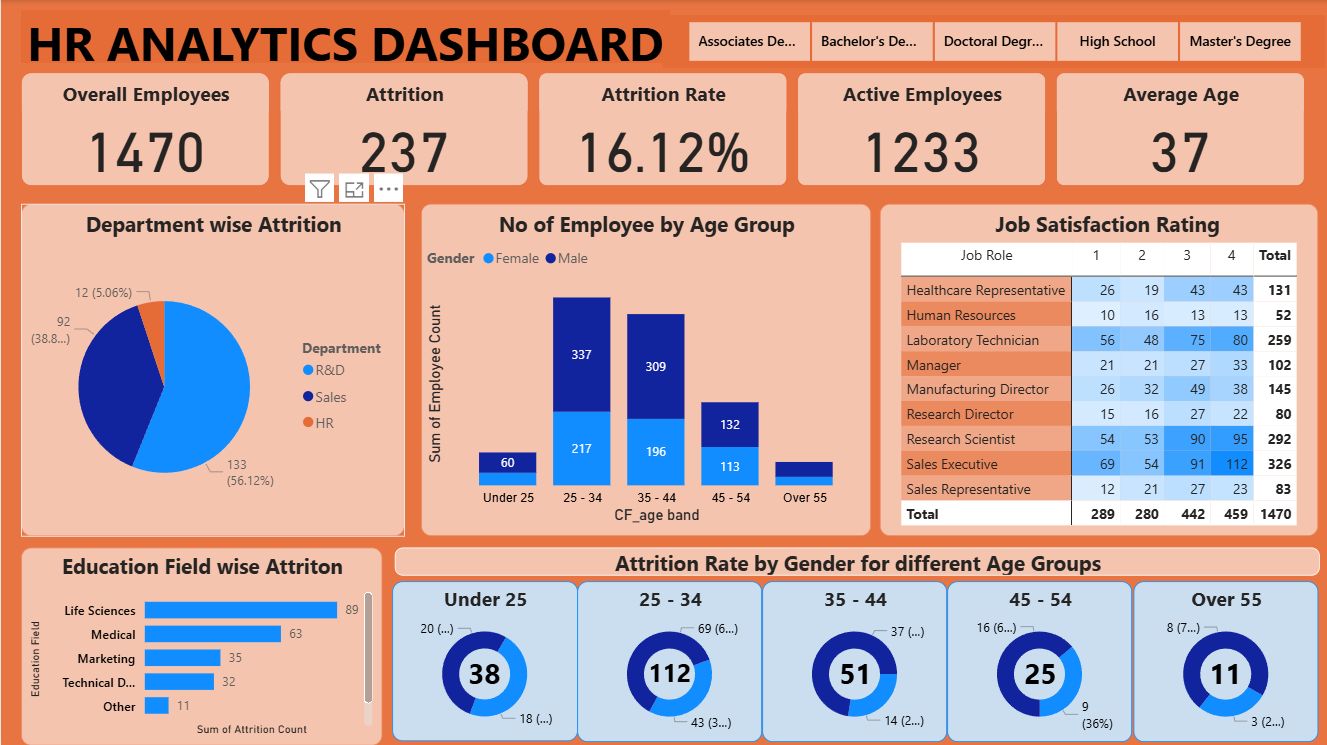

This screenshot's page, from the dashboard's own definition file:
{"tool":"powerbi","page":{"name":"Page 1","canvas":[1280,720],"ordinal":0},"visuals":[{"type":"card","title":"Overall Employees","fields":{"Values":["Sum(HR data.Employee Count)"]},"box":[19.3,70,240.1,109.8],"z":0},{"type":"card","title":"Attrition","fields":{"Values":["Sum(HR data.Attrition Count)"]},"box":[269,70,240.1,109.8],"z":1000},{"type":"card","title":"Attrition Rate","fields":{"Values":["HR data.Attrition Rate"]},"box":[518.8,70,240.1,109.8],"z":2000},{"type":"card","title":"Active Employees","fields":{"Values":["HR data.Active Employees"]},"box":[768.5,70,240.1,109.8],"z":3000},{"type":"card","title":"Average Age","fields":{"Values":["Avg(HR data.Age)"]},"box":[1018.2,70,240.1,109.8],"z":4000},{"type":"pieChart","title":"Department wise Attrition","fields":{"Category":["HR data.Department"],"Y":["Sum(HR data.Attrition Count)"]},"box":[19.3,196.6,370.4,320.9],"z":5000},{"type":"columnChart","title":"No of Employee by Age Group","fields":{"Category":["HR data.CF_age band"],"Y":["Sum(HR data.Employee Count)"],"Series":["HR data.Gender"]},"box":[405.4,196.6,434.3,320.9],"z":6000},{"type":"pivotTable","title":"Job Satisfaction Rating","fields":{"Rows":["HR data.Job Role"],"Columns":["HR data.Job Satisfaction"],"Values":["Sum(HR data.Employee Count)"]},"box":[848.1,196.6,423.5,320.9],"z":7000},{"type":"barChart","title":"Education Field wise Attriton","fields":{"Y":["Sum(HR data.Attrition Count)"],"Category":["HR data.Education Field"]},"box":[18.8,528.8,348.8,191.2],"z":8000},{"type":"donutChart","title":"Under 25","fields":{"Category":["HR data.Gender"],"Y":["Sum(HR data.Attrition Count)"],"Series":["HR data.CF_age band"]},"box":[377.6,561.2,179,154.7],"z":9000},{"type":"textbox","title":"Attrition Rate by Gender for different Age Groups","box":[380,528.8,892.5,27.5],"z":10000},{"type":"donutChart","title":"25 - 34","fields":{"Category":["HR data.Gender"],"Y":["Sum(HR data.Attrition Count)"],"Series":["HR data.CF_age band"]},"box":[556.2,561.2,178.8,155],"z":11000},{"type":"donutChart","title":"35 - 44","fields":{"Category":["HR data.Gender"],"Y":["Sum(HR data.Attrition Count)"],"Series":["HR data.CF_age band"]},"box":[735,561.2,178.8,155],"z":12000},{"type":"donutChart","title":"45 - 54","fields":{"Category":["HR data.Gender"],"Y":["Sum(HR data.Attrition Count)"],"Series":["HR data.CF_age band"]},"box":[913.8,561.2,178.8,155],"z":13000},{"type":"donutChart","title":"Over 55","fields":{"Category":["HR data.Gender"],"Y":["Sum(HR data.Attrition Count)"],"Series":["HR data.CF_age band"]},"box":[1092.5,561.2,178.8,155],"z":14000},{"type":"card","fields":{"Values":["Sum(HR data.Attrition Count)"]},"box":[444.1,632.9,45.3,34.7],"z":15000},{"type":"card","fields":{"Values":["Sum(HR data.Attrition Count)"]},"box":[616.5,630,58.2,41.2],"z":16000},{"type":"card","fields":{"Values":["Sum(HR data.Attrition Count)"]},"box":[801.8,632.9,45.3,34.7],"z":17000},{"type":"card","fields":{"Values":["Sum(HR data.Attrition Count)"]},"box":[980.6,632.9,45.3,34.7],"z":18000},{"type":"card","fields":{"Values":["Sum(HR data.Attrition Count)"]},"box":[1159.4,632.9,45.3,34.7],"z":19000},{"type":"textbox","title":"HR ANALYTICS DASHBOARD","box":[18.8,10,626.2,51.2],"z":20000},{"type":"slicer","fields":{"Values":["HR data.Education"]},"box":[638.8,14.4,640,51.2],"z":21000}]}

Visuals, with their boxes in screenshot pixels (x1, y1, x2, y2), scaled from the page's 1280x720 canvas onto the 1327x745 screenshot:
"Overall Employees" card: (x1=20, y1=72, x2=269, y2=186)
"Attrition" card: (x1=279, y1=72, x2=528, y2=186)
"Attrition Rate" card: (x1=538, y1=72, x2=787, y2=186)
"Active Employees" card: (x1=797, y1=72, x2=1046, y2=186)
"Average Age" card: (x1=1056, y1=72, x2=1305, y2=186)
"Department wise Attrition" pieChart: (x1=20, y1=203, x2=404, y2=535)
"No of Employee by Age Group" columnChart: (x1=420, y1=203, x2=871, y2=535)
"Job Satisfaction Rating" pivotTable: (x1=879, y1=203, x2=1318, y2=535)
"Education Field wise Attriton" barChart: (x1=19, y1=547, x2=381, y2=744)
"Under 25" donutChart: (x1=391, y1=581, x2=577, y2=741)
"Attrition Rate by Gender for different Age Groups" textbox: (x1=394, y1=547, x2=1319, y2=576)
"25 - 34" donutChart: (x1=577, y1=581, x2=762, y2=741)
"35 - 44" donutChart: (x1=762, y1=581, x2=947, y2=741)
"45 - 54" donutChart: (x1=947, y1=581, x2=1133, y2=741)
"Over 55" donutChart: (x1=1133, y1=581, x2=1318, y2=741)
card - Sum(HR data.Attrition Count): (x1=460, y1=655, x2=507, y2=691)
card - Sum(HR data.Attrition Count): (x1=639, y1=652, x2=699, y2=695)
card - Sum(HR data.Attrition Count): (x1=831, y1=655, x2=878, y2=691)
card - Sum(HR data.Attrition Count): (x1=1017, y1=655, x2=1064, y2=691)
card - Sum(HR data.Attrition Count): (x1=1202, y1=655, x2=1249, y2=691)
"HR ANALYTICS DASHBOARD" textbox: (x1=19, y1=10, x2=669, y2=63)
slicer - HR data.Education: (x1=662, y1=15, x2=1326, y2=68)
